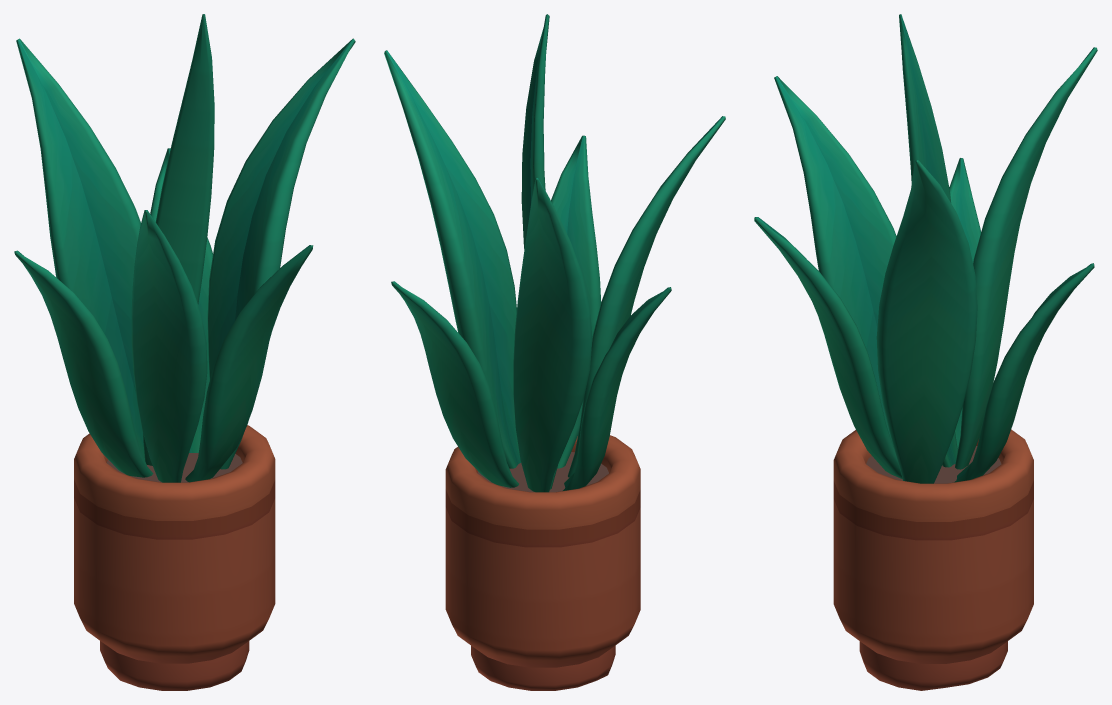
File: Plants_03.glb
3 renders of one model, left to right at view 1: azimuth 30°, elevation 25°; view 2: azimuth 150°, elevation 25°; view 3: azimuth 270°, elevation 25°, orthographic. The views are drawn at different scales.
Parts seen in each view (by area): view 1: Plants_03; view 2: Plants_03; view 3: Plants_03.
Part boxes in pixels (x1,y1,x2,y2): Plants_03: (14, 14, 355, 690); Plants_03: (384, 14, 725, 690); Plants_03: (754, 14, 1097, 690).
Bounding box in the file's own units: 0.2969 × 0.584 × 0.2783.
Materials: 1 (1 with a texture image).
